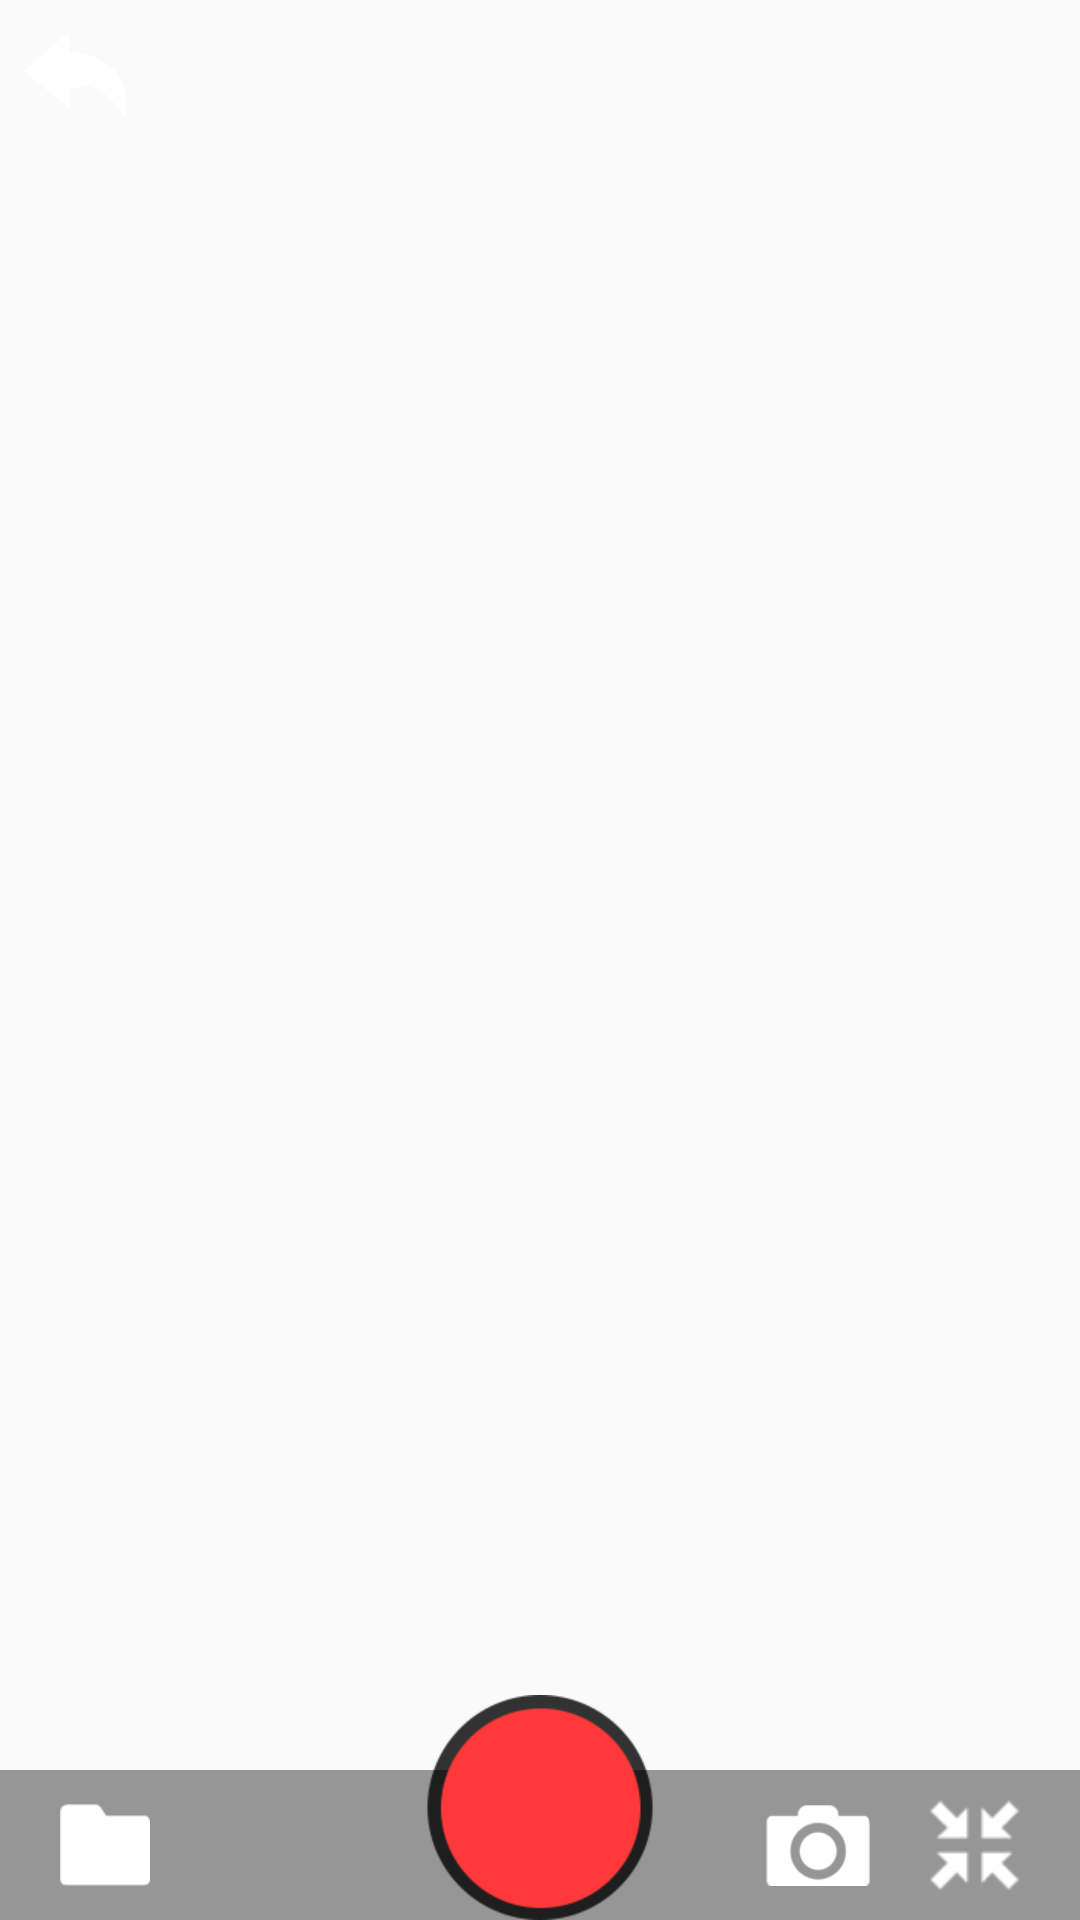

Icon click points for this 1080*1920 phone screenshot, format point (x, y):
folder: point (105, 1845)
record off: point (540, 1807)
screen por: point (974, 1845)
